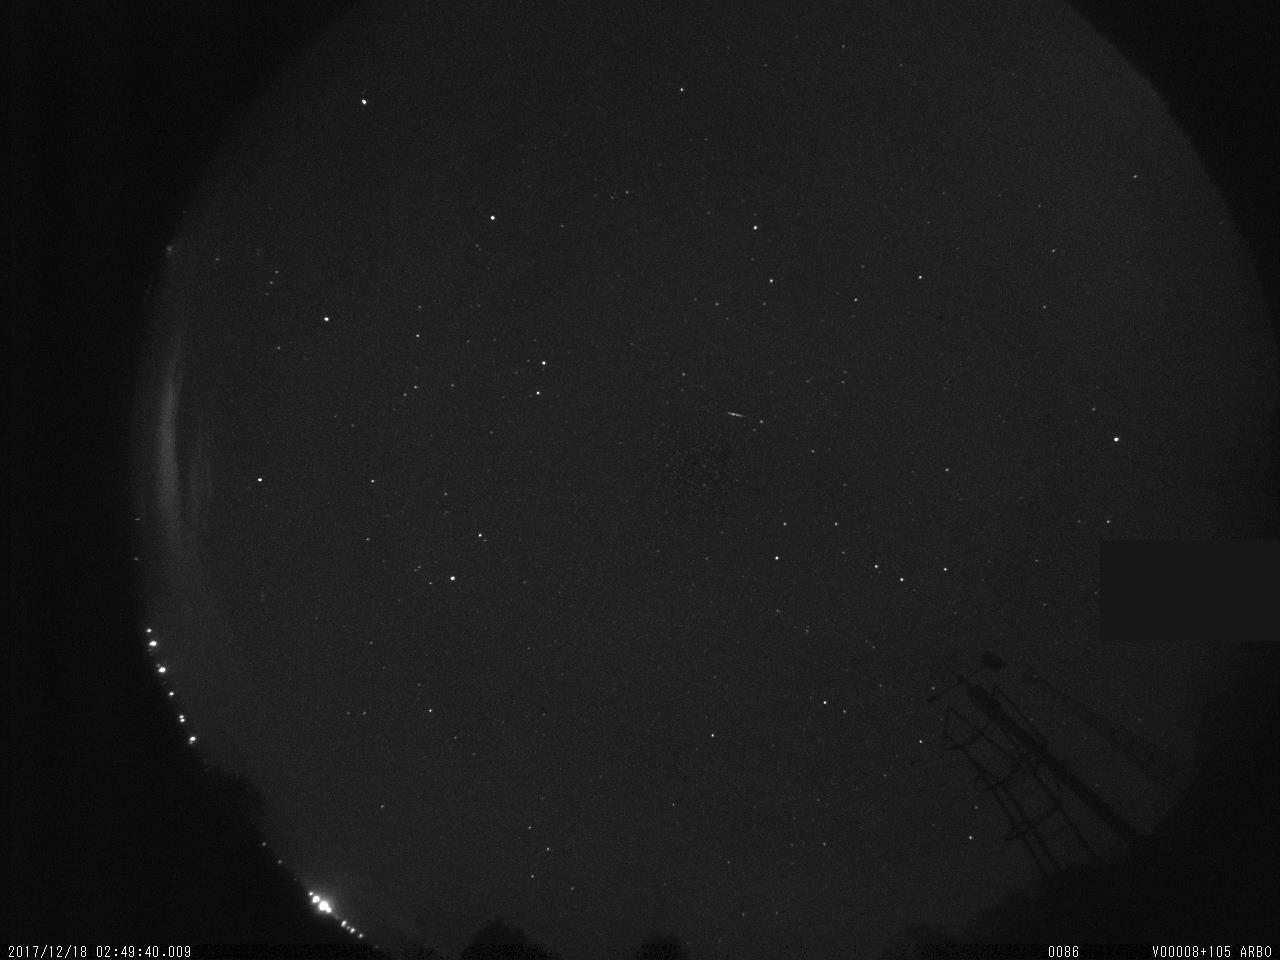meteor: (720, 408, 746, 426)
